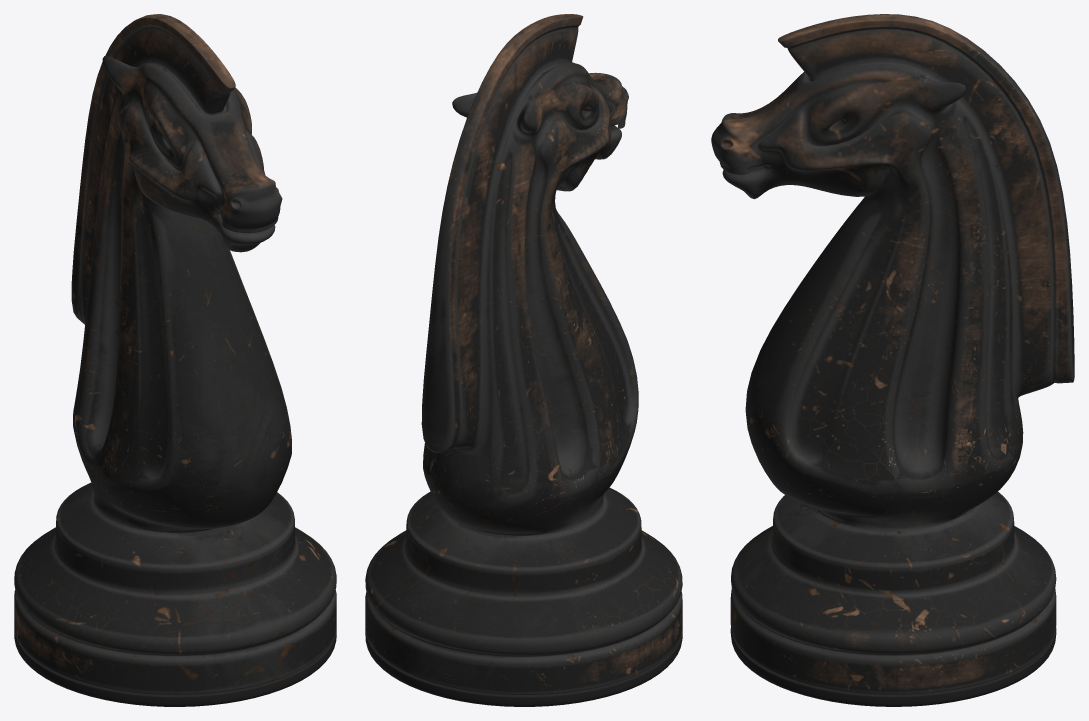
Rendered from hi_knight.glb.
The picture shows the model from 3 angles, left to right: view 1: azimuth 30°, elevation 25°; view 2: azimuth 150°, elevation 25°; view 3: azimuth 270°, elevation 25°; orthographic projection. The views are drawn at different scales.
Visible parts, largest first — view 1: Caballo002_Material #3_0; view 2: Caballo002_Material #3_0; view 3: Caballo002_Material #3_0.
Part boxes in pixels (left/top/right/bottom): Caballo002_Material #3_0: left=14, top=14, right=336, bottom=706; Caballo002_Material #3_0: left=365, top=14, right=682, bottom=706; Caballo002_Material #3_0: left=711, top=14, right=1074, bottom=706.
Size of the model in its own units: 0.0576 by 0.1219 by 0.0643.
1 material, 1 textured.
